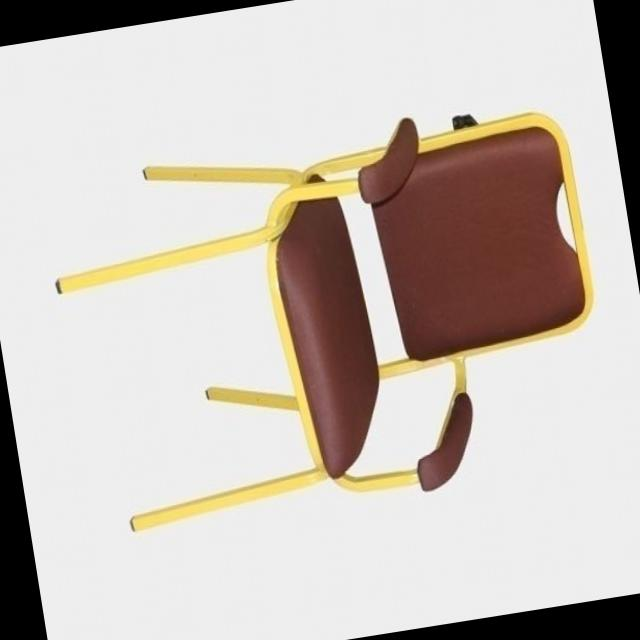Chair: (37, 95, 628, 554)
